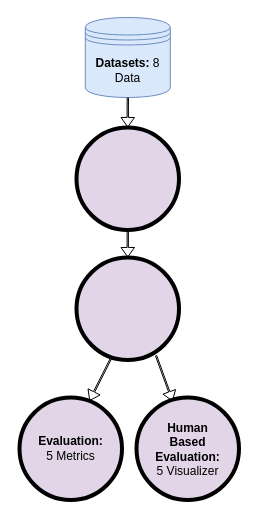
This 258x519 diagram has some shape labels left out. Here are the shapes that lost their labels. From the top down, the centre of each, then its label:
point 127,178: Parametric Preprocessor: 17 Methods
point 127,308: Modeling: 6 Algorithms
